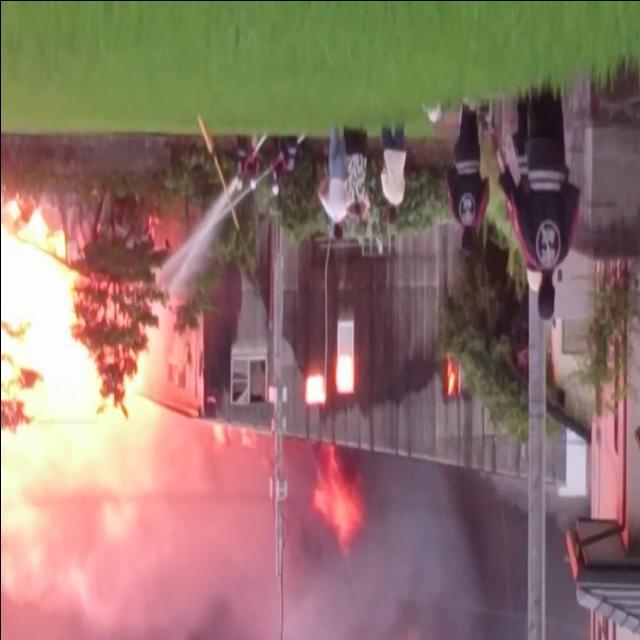Fire: (1, 195, 183, 589), (312, 441, 366, 554), (212, 424, 228, 447), (446, 372, 456, 400)
